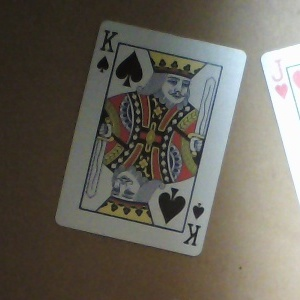card: (54, 18, 245, 260)
